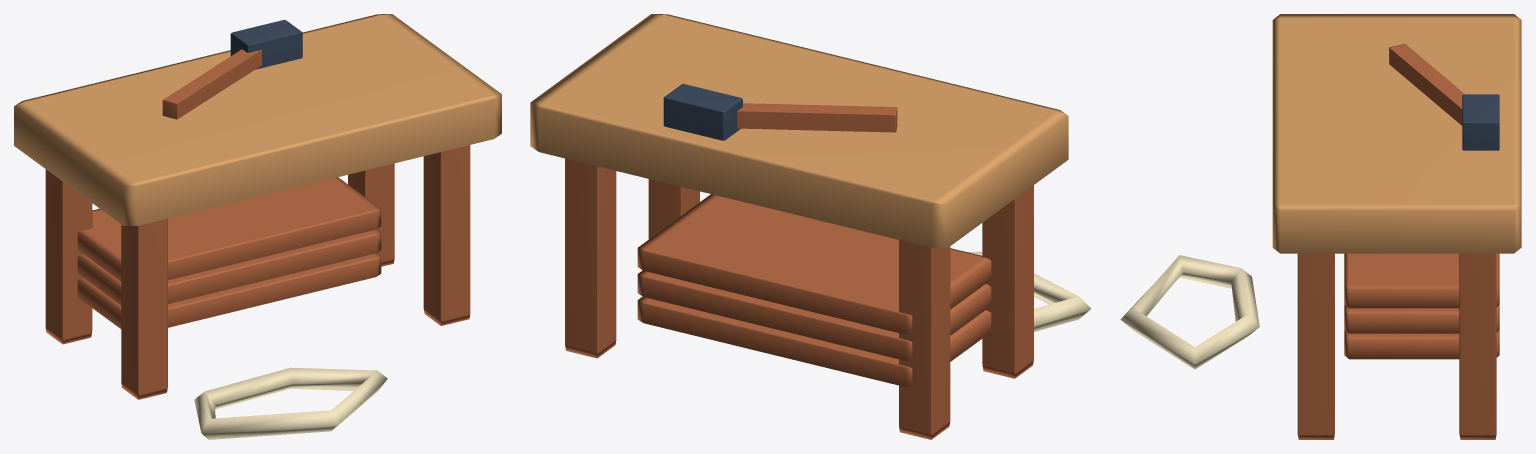
The model's file is repair_bench.glb.
3 renders of one model, left to right at view 1: azimuth 30°, elevation 25°; view 2: azimuth 150°, elevation 25°; view 3: azimuth 270°, elevation 25°, orthographic. The views are drawn at different scales.
Parts seen in each view (by area): view 1: Workbench, Repair planks.002, Bench leg.002, Bench leg, Spare rope, Bench leg.001, Repair planks, Repair planks.001, Hammer handle, Hammer head, Bench leg.003; view 2: Workbench, Repair planks.002, Bench leg.003, Bench leg.001, Repair planks, Repair planks.001, Bench leg, Hammer handle, Hammer head, Spare rope, Bench leg.002; view 3: Workbench, Bench leg.003, Bench leg.002, Repair planks.002, Spare rope, Repair planks, Repair planks.001, Hammer handle, Hammer head.
Part boxes in pixels (box(x1,y1,x2,y2)): Workbench: box(14, 14, 501, 225); Repair planks.002: box(77, 177, 381, 281); Bench leg.002: box(423, 145, 470, 325); Bench leg: box(121, 218, 167, 399); Spare rope: box(194, 367, 387, 439); Bench leg.001: box(45, 169, 92, 344); Repair planks: box(77, 253, 381, 328); Repair planks.001: box(77, 229, 381, 305); Hammer handle: box(162, 49, 261, 119); Hammer head: box(230, 19, 302, 69); Bench leg.003: box(348, 163, 394, 266); Workbench: box(530, 14, 1068, 247); Repair planks.002: box(637, 194, 991, 334); Bench leg.003: box(565, 158, 616, 358); Bench leg.001: box(899, 240, 950, 439); Repair planks: box(637, 296, 991, 387); Repair planks.001: box(637, 270, 991, 360); Bench leg: box(982, 185, 1033, 378); Hammer handle: box(737, 103, 897, 132); Hammer head: box(663, 84, 742, 140); Spare rope: box(967, 251, 1091, 331); Bench leg.002: box(648, 179, 699, 239); Workbench: box(1272, 14, 1521, 253); Bench leg.003: box(1459, 253, 1496, 439); Bench leg.002: box(1297, 253, 1334, 439); Repair planks.002: box(1344, 253, 1499, 308); Spare rope: box(1120, 255, 1259, 369); Repair planks: box(1344, 330, 1499, 359); Repair planks.001: box(1344, 305, 1499, 333); Hammer handle: box(1389, 44, 1464, 125); Hammer head: box(1462, 94, 1499, 150).
Size of the model in its own units: 1.5 by 0.97 by 1.29.
